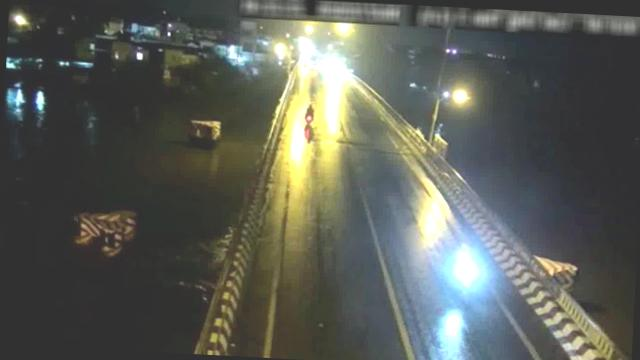Bike: (302, 103, 315, 128)
